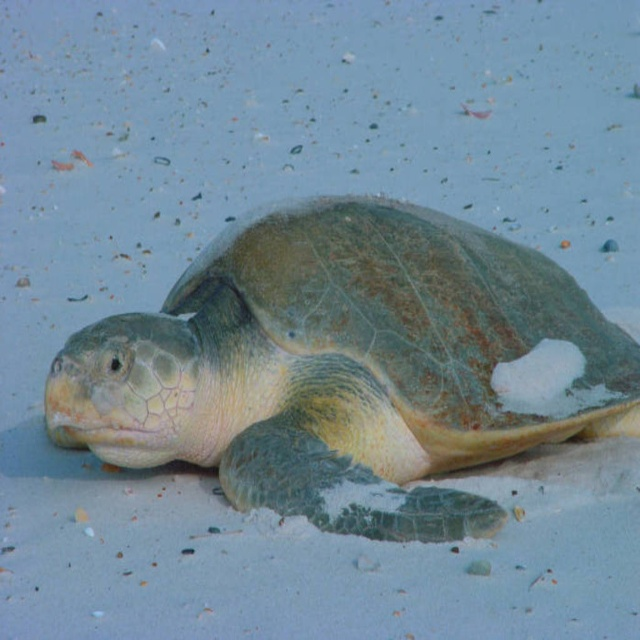Tortoise: (44, 189, 640, 544)
